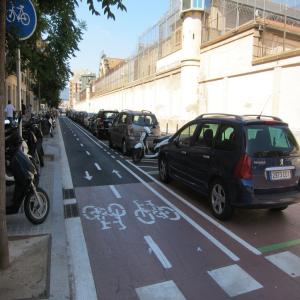Vehicle-registration-plate: (270, 171, 293, 182)
